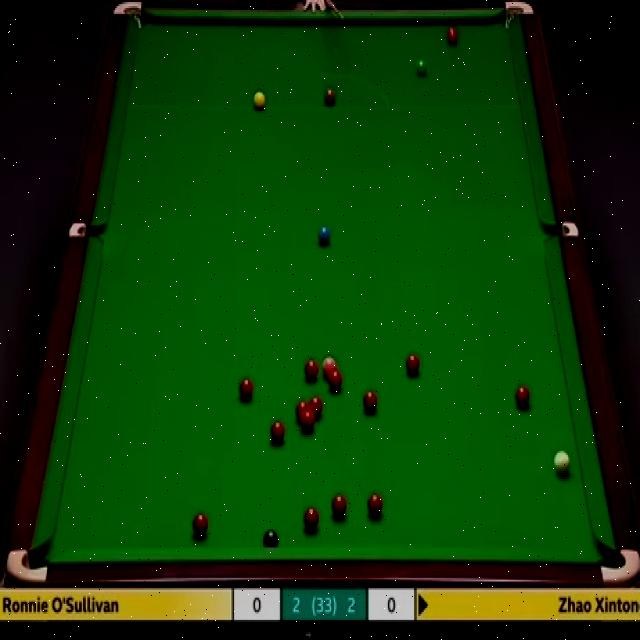black-ball: (263, 529, 279, 548)
blue-ball: (316, 221, 331, 247)
brown-ball: (324, 88, 335, 106)
green-ball: (413, 59, 429, 78)
pink-ball: (323, 357, 337, 379)
red-ball: (404, 351, 421, 380), (515, 385, 531, 413), (192, 512, 209, 538), (367, 492, 383, 518), (239, 379, 255, 404), (362, 389, 377, 415), (304, 506, 319, 531), (332, 494, 347, 519), (310, 396, 324, 421), (270, 421, 285, 444), (328, 369, 343, 391), (446, 25, 460, 48), (296, 400, 309, 421), (305, 361, 318, 381), (302, 412, 314, 432)
white-ball: (553, 448, 572, 478)
yellow-ball: (252, 90, 266, 110)
